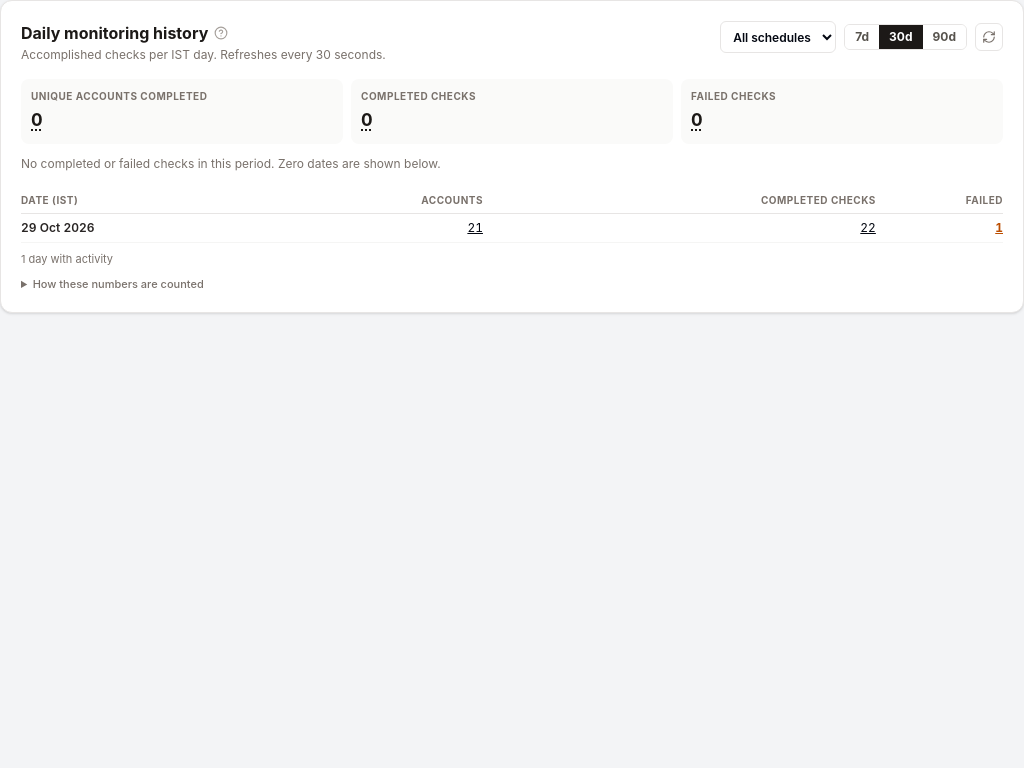
Test: opens completed/failed accounts with scoped pagination, analysis links and resets on scope changes
Select "HP daily" in the dropdown named "Schedule" at (778, 37), box [720,21,836,53]
Click the button named "View completed accounts for 2026-10-29".
click(475, 228)  # box [467,220,483,236]
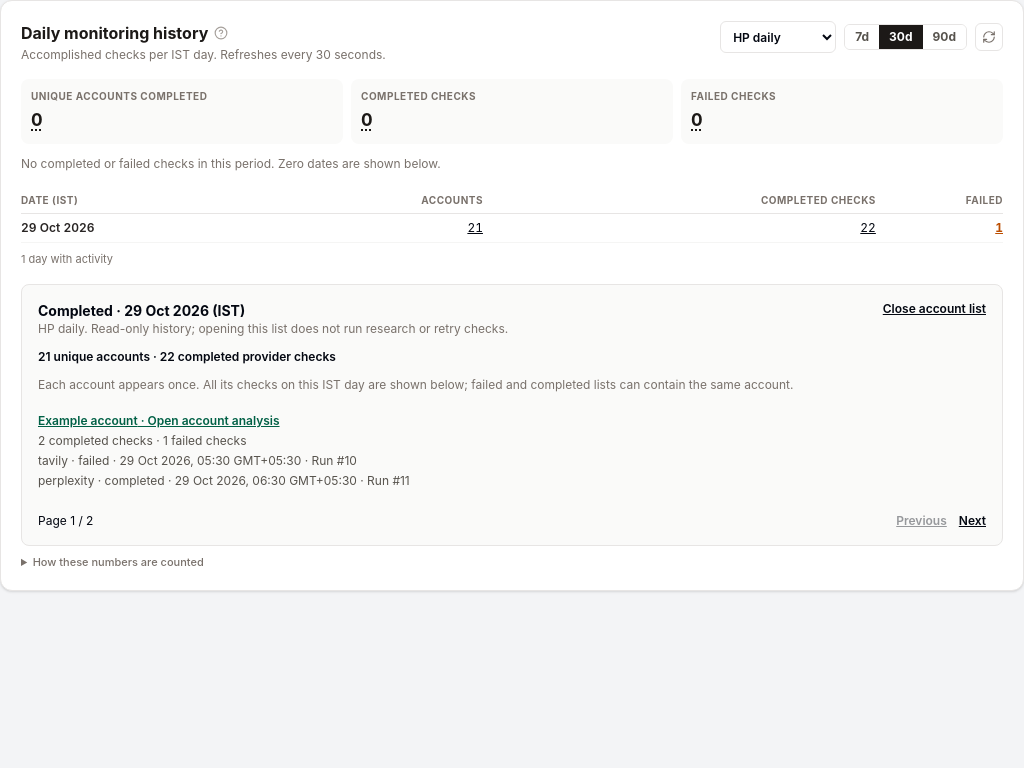
Expected: the list item "tavily · failed · 29 Oct 2026, 05:30 GMT+05:30 · Run #10" is shown, [38,453,357,468]
Expected: the list item "perplexity · completed" is shown, [38,473,410,488]
Click the button with aria-label "Next account page".
click(972, 521)  # box [959,513,986,529]
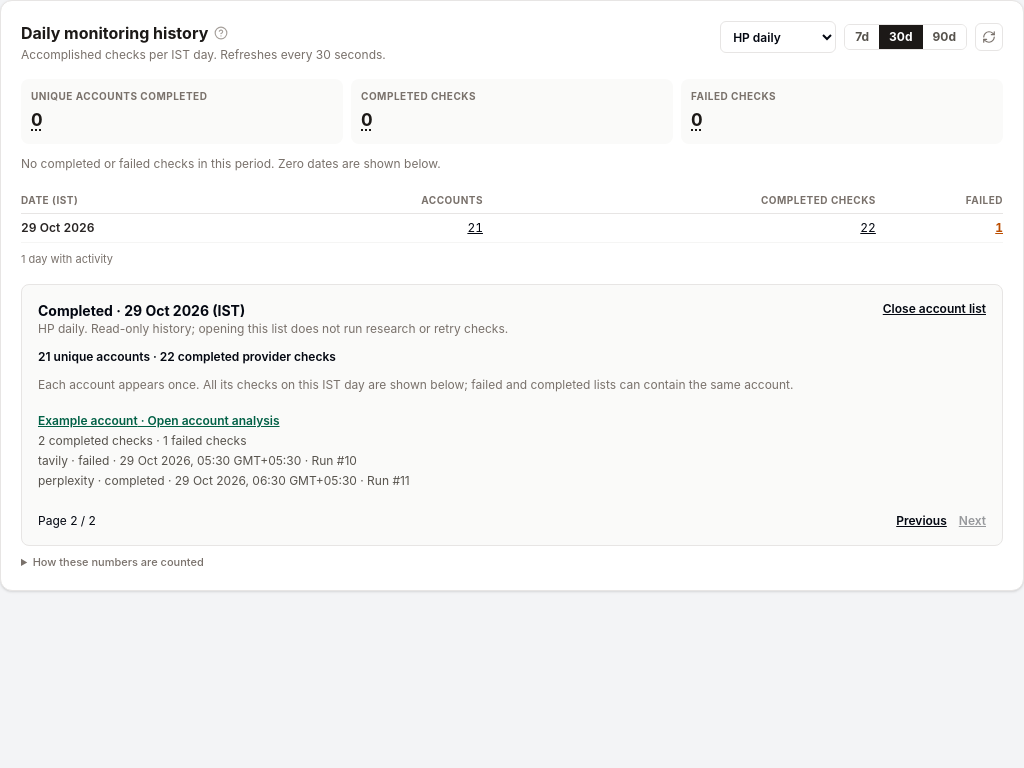
Click the button named "View failed checks for 2026-10-29".
click(999, 228)  # box [995,220,1003,236]
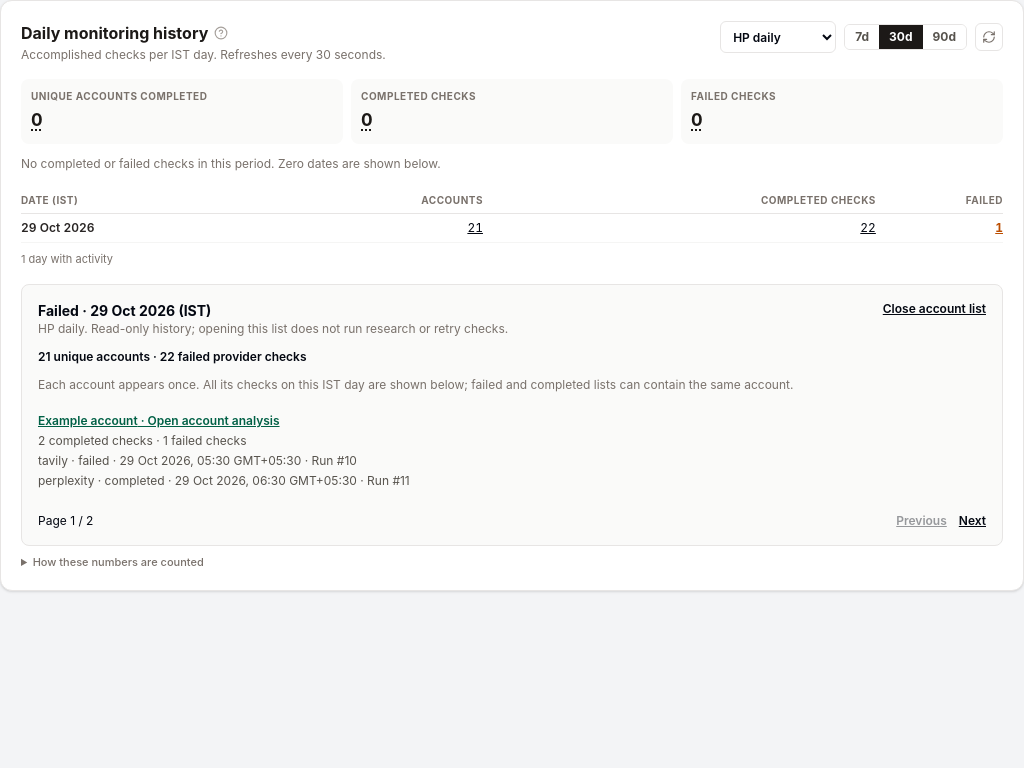
Click the button "Close account list".
click(934, 309)  # box [883,301,986,317]
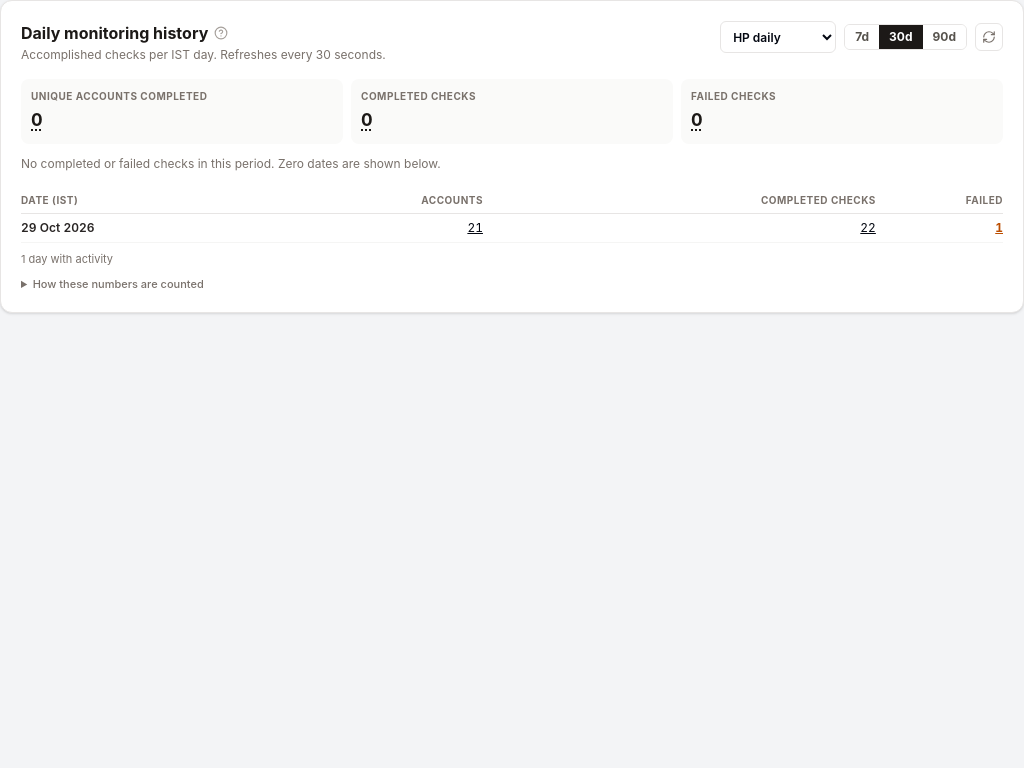
Expected: the element with test id "history-accounts" is gone
Click the button named "View completed checks for 2026-10-29".
click(868, 228)  # box [860,220,876,236]
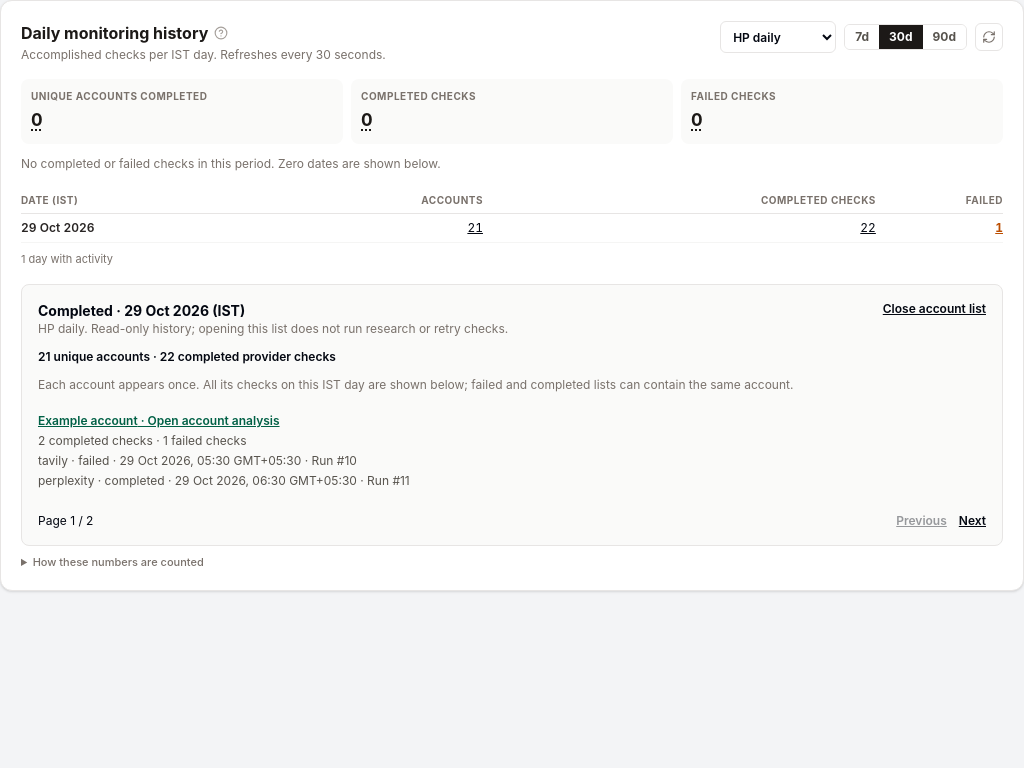
Click the button with test id "button-history-days-7".
click(862, 37)  # box [845,25,879,49]
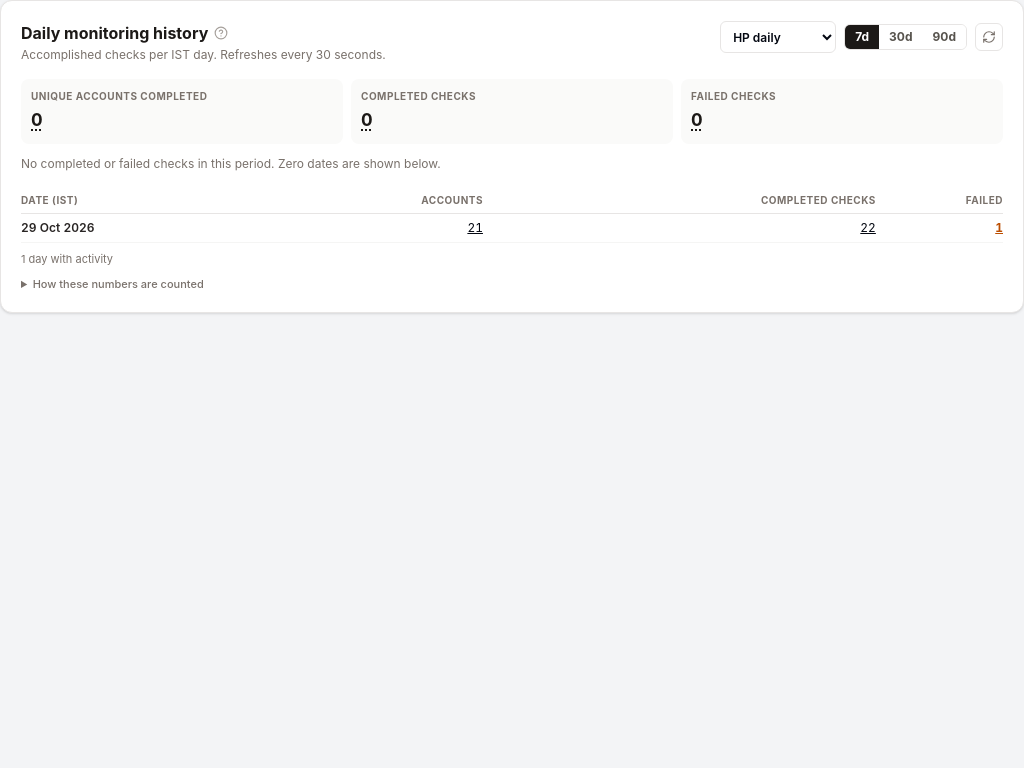
Expected: the element with test id "history-accounts" is gone
